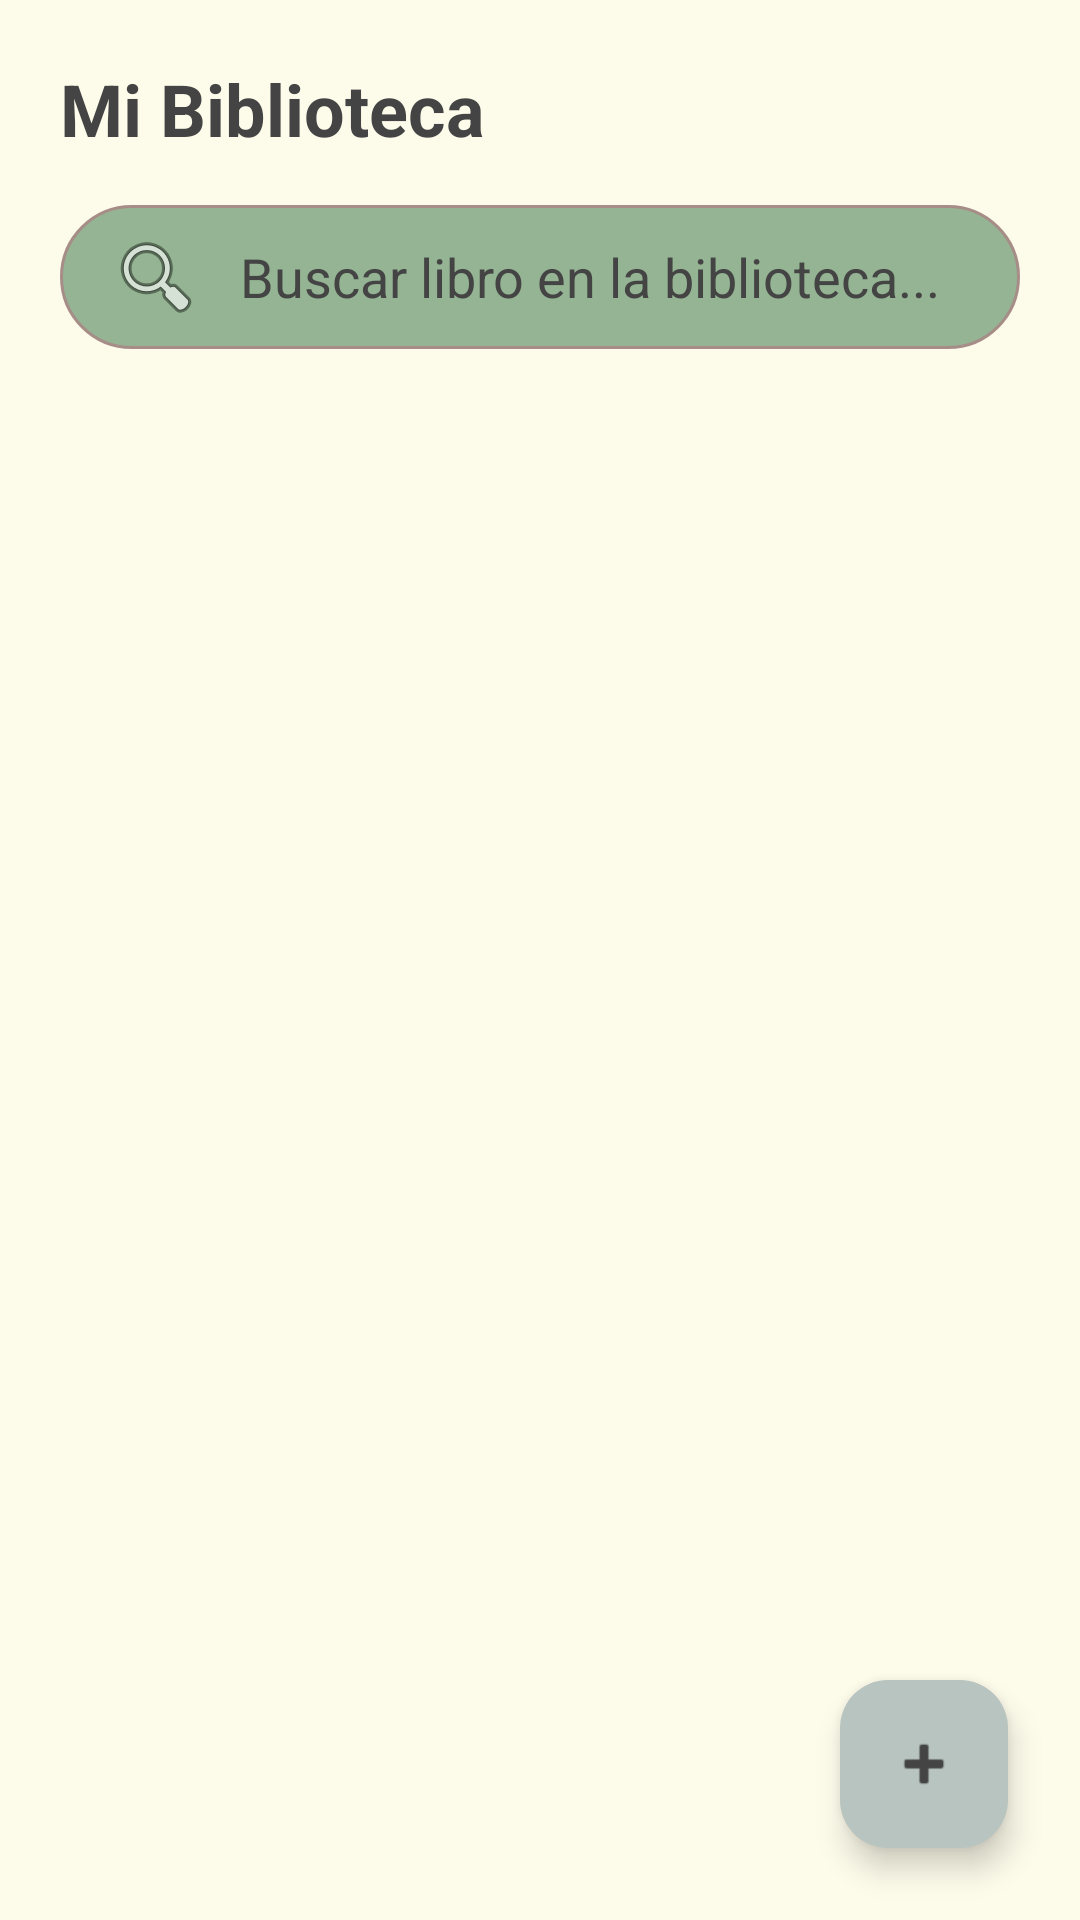

Locate icon controls on the screen. Image size 1080w x 1920h, boxes as {"left": x1, "top": y1, "right": x2, "bottom": y2}.
Añadir libro: {"left": 840, "top": 1680, "right": 1008, "bottom": 1848}
